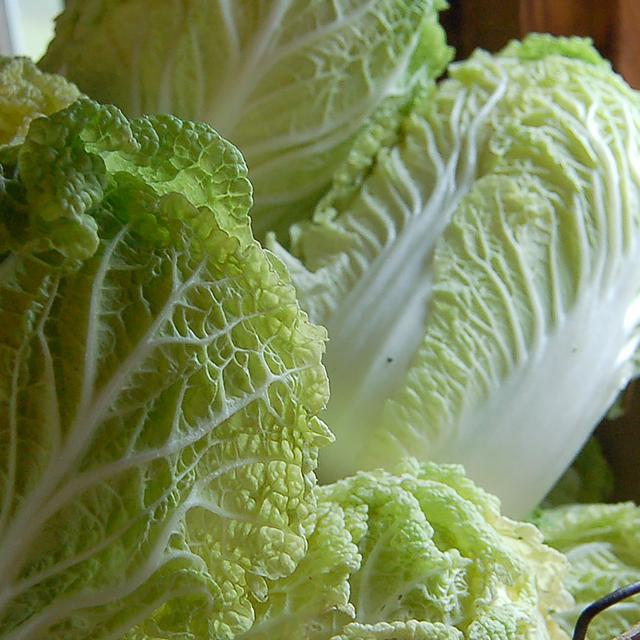cabbage: (0, 0, 640, 640)
